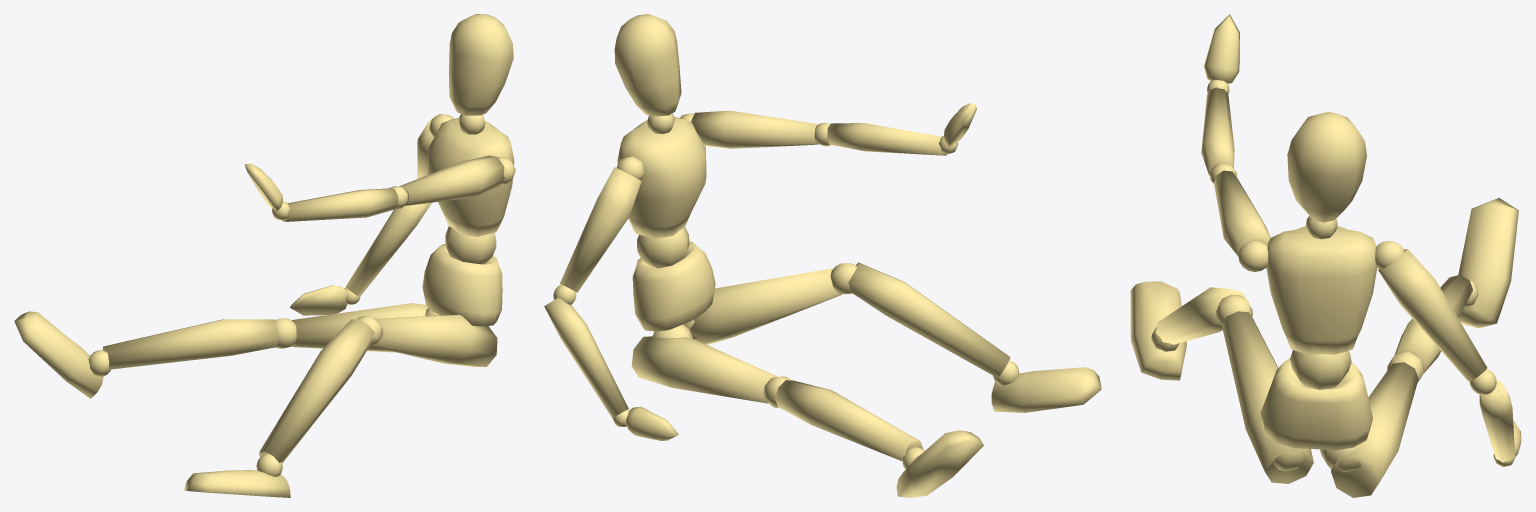
File: mannequin-floor.fbx
3 views of the same model, side by side, from view 1: azimuth 30°, elevation 25°; view 2: azimuth 150°, elevation 25°; view 3: azimuth 270°, elevation 25° (orthographic). The views are drawn at different scales.
Parts seen in each view (by area): view 1: Cylinder.003, Cylinder.002, Cylinder, Cylinder.007, Sphere.008, Cylinder.006, Sphere, Cylinder.009, Cylinder.001, Sphere.014, Cylinder.008, Cylinder.005 (+3 smaller); view 2: Cylinder.003, Cylinder.002, Cylinder.006, Cylinder.001, Cylinder.007, Sphere.008, Cylinder, Cylinder.004, Sphere.014, Cylinder.009, Sphere, Cylinder.005 (+3 smaller); view 3: Cylinder.003, Cylinder.002, Sphere.008, Cylinder.006, Cylinder.001, Sphere, Cylinder.004, Sphere.014, Cylinder.009, Cylinder.007, Cylinder.008, Sphere.016 (+2 smaller).
Boxes of the visible parts, x1=… form: Cylinder.003: x1=427, y1=114, x2=515, y2=236; Cylinder.002: x1=422, y1=226, x2=502, y2=326; Cylinder: x1=102, y1=319, x2=278, y2=369; Cylinder.007: x1=259, y1=319, x2=374, y2=462; Sphere.008: x1=449, y1=14, x2=513, y2=115; Cylinder.006: x1=357, y1=315, x2=497, y2=366; Sphere: x1=14, y1=311, x2=110, y2=398; Cylinder.009: x1=390, y1=155, x2=504, y2=208; Cylinder.001: x1=274, y1=303, x2=428, y2=352; Sphere.014: x1=184, y1=453, x2=290, y2=497; Cylinder.008: x1=282, y1=188, x2=398, y2=221; Cylinder.005: x1=346, y1=202, x2=431, y2=296; Cylinder.003: x1=616, y1=113, x2=706, y2=238; Cylinder.002: x1=632, y1=227, x2=715, y2=339; Cylinder.006: x1=690, y1=263, x2=857, y2=344; Cylinder.001: x1=631, y1=336, x2=790, y2=407; Cylinder.007: x1=848, y1=262, x2=1010, y2=377; Sphere.008: x1=614, y1=14, x2=681, y2=116; Cylinder: x1=775, y1=380, x2=922, y2=460; Cylinder.004: x1=553, y1=167, x2=641, y2=304; Sphere.014: x1=991, y1=360, x2=1101, y2=412; Cylinder.009: x1=691, y1=110, x2=830, y2=148; Sphere: x1=896, y1=430, x2=983, y2=497; Cylinder.005: x1=544, y1=297, x2=628, y2=418; Cylinder.003: x1=1238, y1=216, x2=1404, y2=354; Cylinder.002: x1=1260, y1=350, x2=1372, y2=472; Sphere.008: x1=1287, y1=112, x2=1366, y2=222; Cylinder.006: x1=1216, y1=294, x2=1313, y2=483; Cylinder.001: x1=1331, y1=351, x2=1424, y2=497; Sphere: x1=1458, y1=198, x2=1518, y2=327; Cylinder.004: x1=1378, y1=249, x2=1496, y2=394; Sphere.014: x1=1130, y1=281, x2=1186, y2=380; Cylinder.009: x1=1210, y1=163, x2=1270, y2=255; Cylinder.007: x1=1156, y1=287, x2=1249, y2=344; Cylinder.008: x1=1201, y1=87, x2=1234, y2=175; Sphere.016: x1=1204, y1=14, x2=1239, y2=93.
Size of the model in its own units: 77.51 by 64.01 by 53.96.
